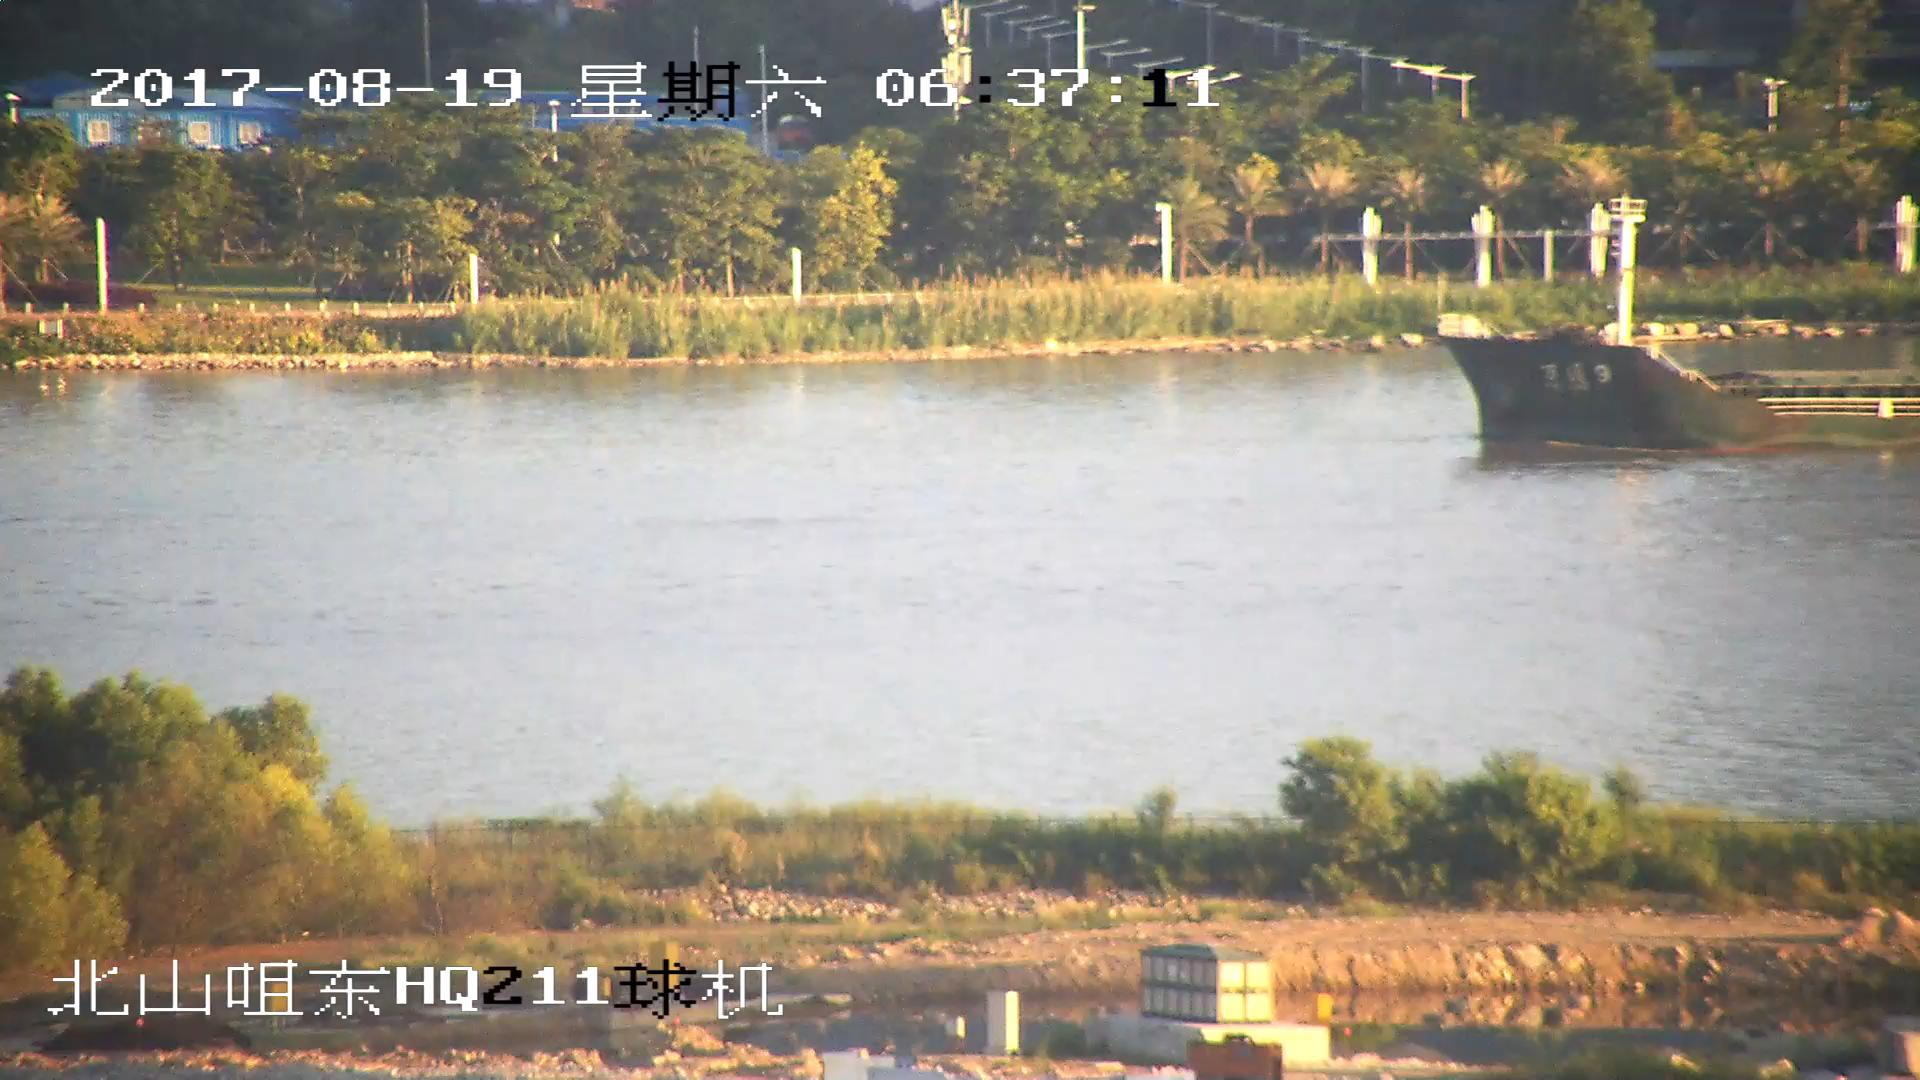general cargo ship: (1445, 302, 1920, 447)
